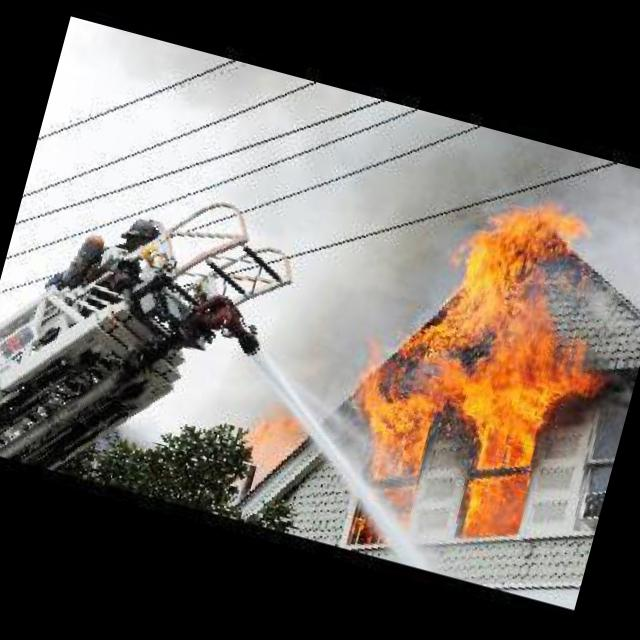fire: (338, 164, 640, 558)
